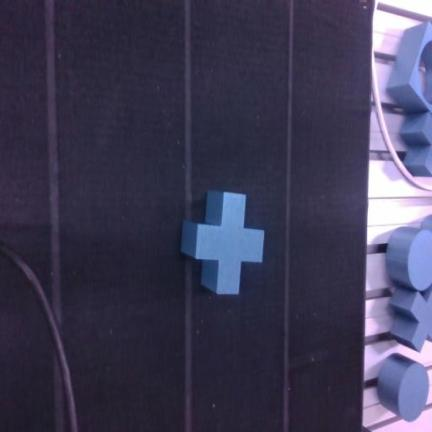cross: (182, 191, 264, 294), (391, 287, 431, 351)
